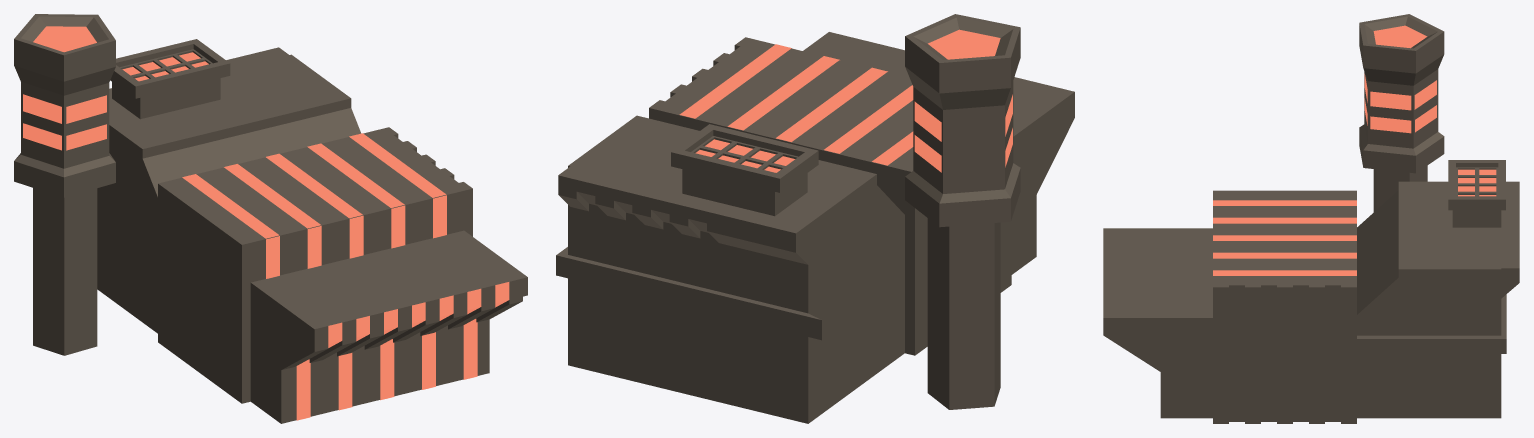
File: Factory.glb
The picture shows the model from 3 angles, left to right: view 1: azimuth 30°, elevation 25°; view 2: azimuth 150°, elevation 25°; view 3: azimuth 270°, elevation 25°; orthographic projection. The views are drawn at different scales.
Visible parts, largest first — view 1: Cube.018, Cube.005, Cube.019, Cylinder.002, Plane.003, Plane.006, Plane.005, Cube.020; view 2: Cube.005, Cylinder.002, Cube.018, Cube.020, Cube.019, Plane.003; view 3: Cube.005, Cube.018, Cube.019, Cylinder.002, Plane.003, Cube.020.
Part boxes in pixels (left/top/right/bottom): Cube.018: left=158, top=127, right=472, bottom=403; Cube.005: left=97, top=39, right=361, bottom=333; Cube.019: left=250, top=230, right=527, bottom=423; Cylinder.002: left=14, top=14, right=115, bottom=355; Plane.003: left=182, top=133, right=446, bottom=238; Plane.006: left=296, top=319, right=477, bottom=420; Plane.005: left=266, top=195, right=446, bottom=278; Cube.020: left=109, top=47, right=288, bottom=98; Cube.005: left=556, top=115, right=904, bottom=423; Cylinder.002: left=905, top=14, right=1020, bottom=409; Cube.018: left=649, top=37, right=1011, bottom=355; Cube.020: left=558, top=166, right=808, bottom=264; Cube.019: left=803, top=32, right=1074, bottom=274; Plane.003: left=679, top=44, right=913, bottom=165; Cube.005: left=1357, top=160, right=1506, bottom=418; Cube.018: left=1213, top=190, right=1356, bottom=423; Cube.019: left=1103, top=228, right=1212, bottom=418; Cylinder.002: left=1359, top=14, right=1444, bottom=211; Plane.003: left=1213, top=200, right=1356, bottom=275; Cube.020: left=1501, top=181, right=1519, bottom=298.
Size of the model in its own units: 0.7434 by 0.6364 by 0.9046.
